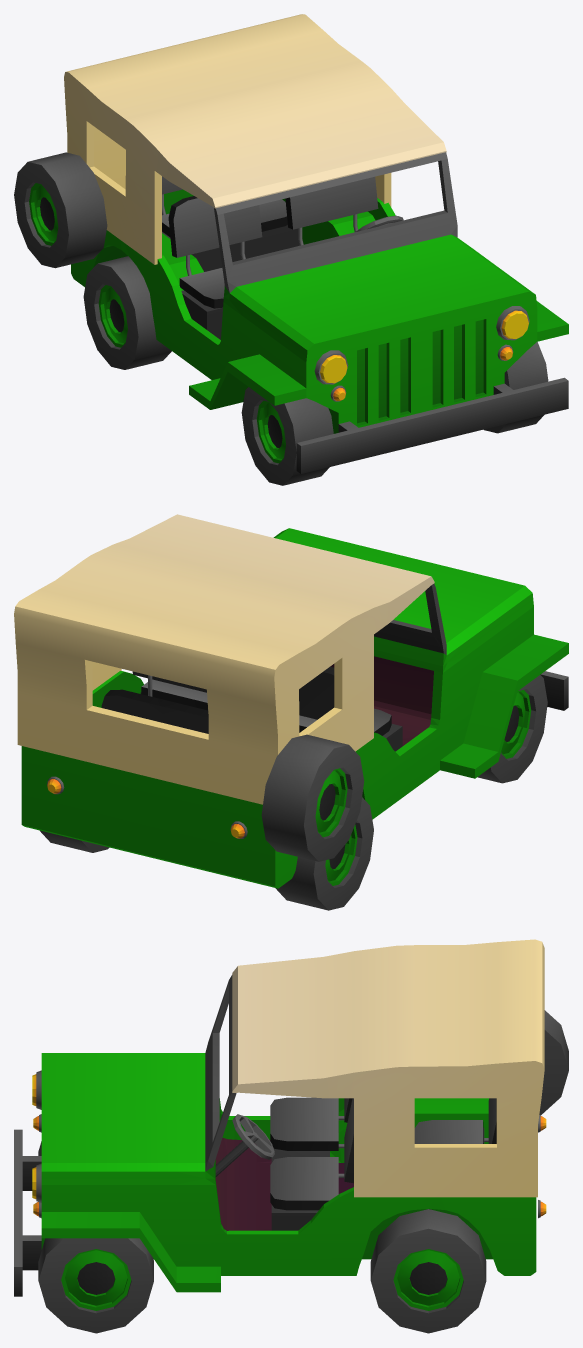
File: jeep.FBX
The picture shows the model from 3 angles, top to bottom: view 1: azimuth 30°, elevation 25°; view 2: azimuth 150°, elevation 25°; view 3: azimuth 270°, elevation 25°; orthographic projection. The views are drawn at different scales.
Parts seen in each view (by area): view 1: Object001; view 2: Object001; view 3: Object001.
Boxes of the visible parts, <box> form: Object001: <box>14,14,568,485</box>; Object001: <box>14,514,568,910</box>; Object001: <box>14,939,568,1333</box>.
Size of the model in its own units: 150 by 120 by 225.
